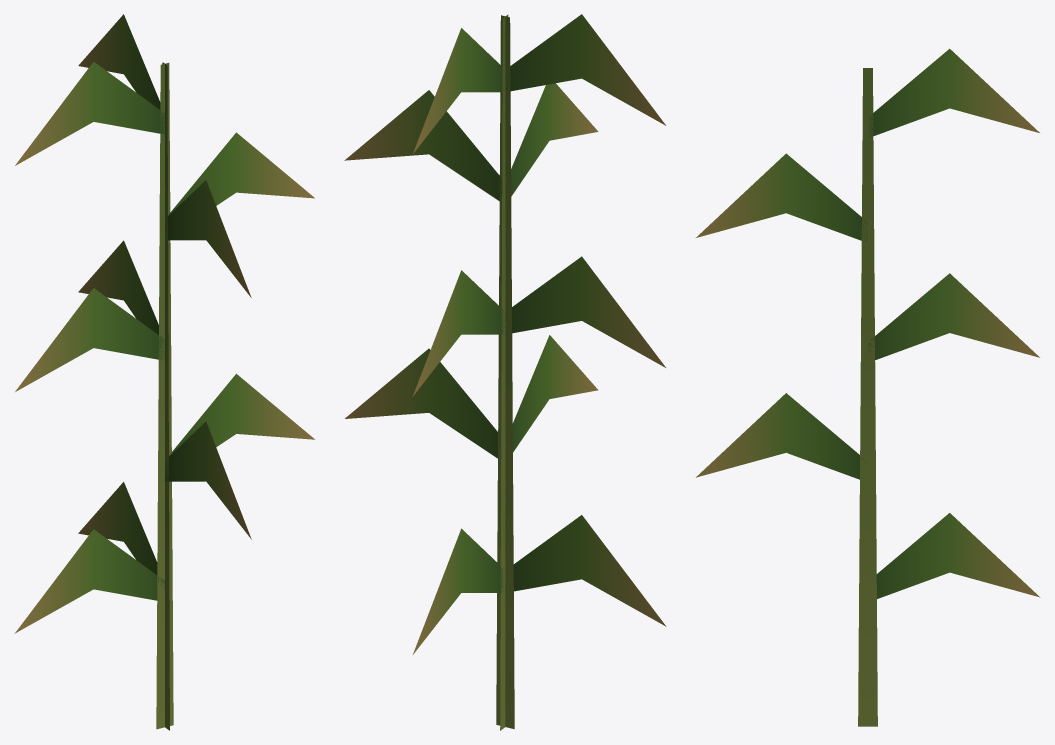
Rendered from corn_card_lod2.glb.
3 views of the same model, side by side, from view 1: azimuth 30°, elevation 25°; view 2: azimuth 150°, elevation 25°; view 3: azimuth 270°, elevation 25° (orthographic). The views are drawn at different scales.
Parts seen in each view (by area): view 1: Card; view 2: Card; view 3: Card.
Boxes of the visible parts, x1,y1,x2,y2 form: Card: [14, 14, 314, 730]; Card: [344, 14, 666, 730]; Card: [696, 48, 1040, 726].
Bounding box in the file's own units: 1.04 × 2.26 × 1.04.
